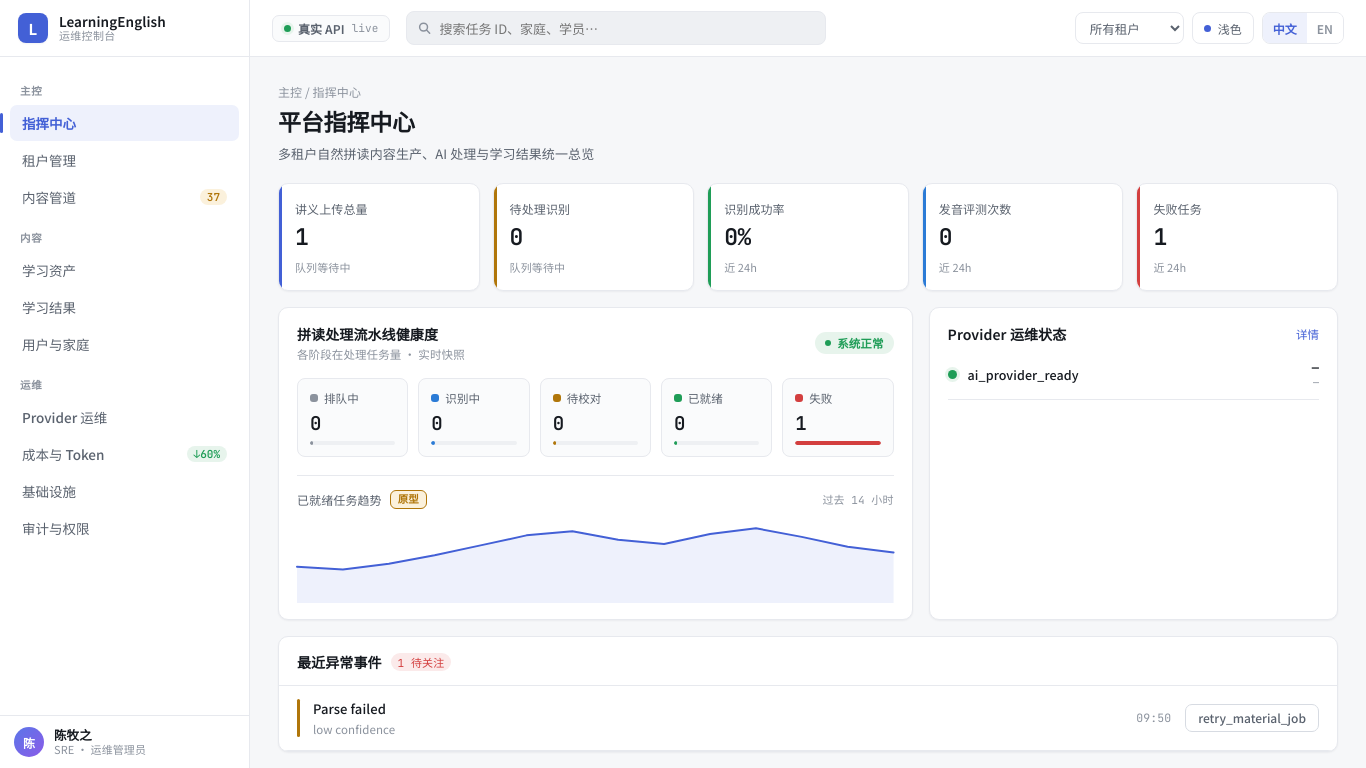
Test: live wiring (newly connected endpoints) › opens a live tenant detail drawer (GET /tenants/{id})
expect the text "真实 API" is shown: met, box [298, 20, 345, 36]
Click the button "租户管理" at (124, 160), box [10, 142, 239, 178]
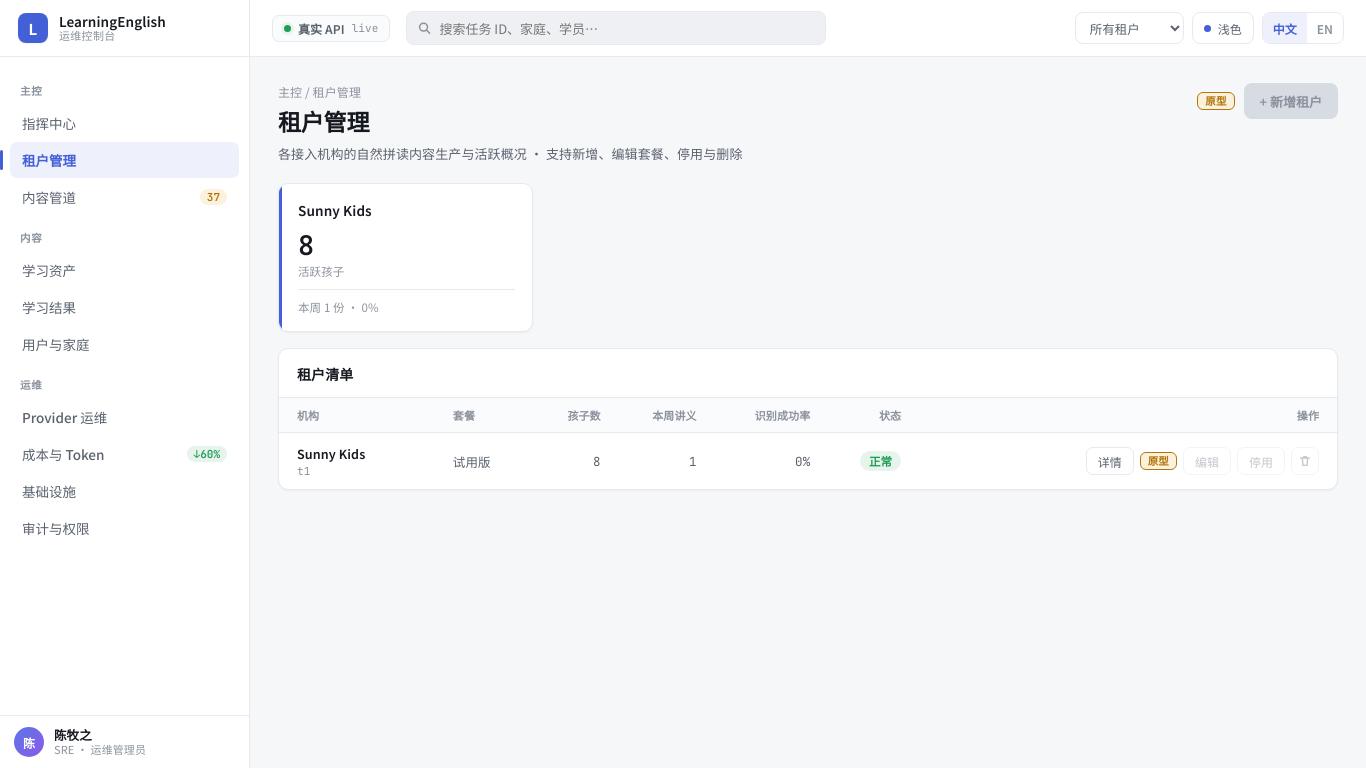
Click the button "详情" at (1110, 461), box [1086, 447, 1134, 475]
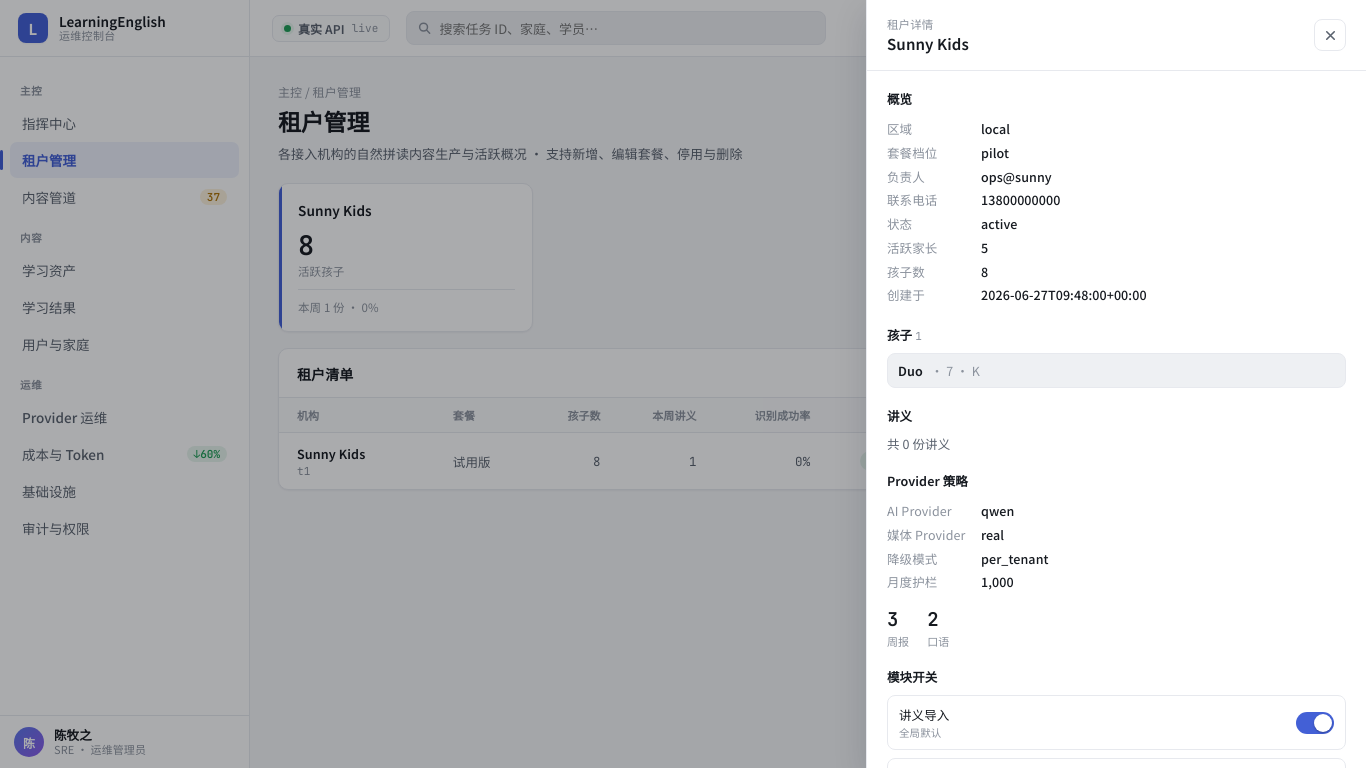
expect the text "Duo" is shown: met, box [898, 361, 923, 380]
